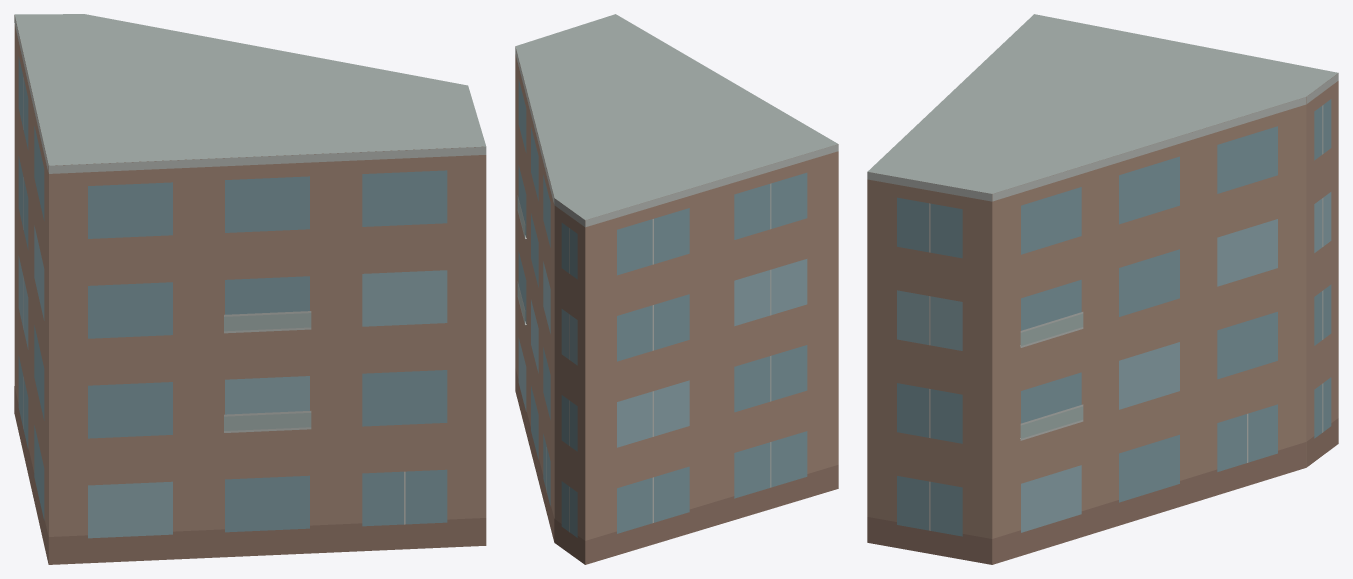
The model's file is survey-upis-32773540.glb.
3 renders of one model, left to right at view 1: azimuth 30°, elevation 25°; view 2: azimuth 150°, elevation 25°; view 3: azimuth 270°, elevation 25°, orthographic. The views are drawn at different scales.
Parts seen in each view (by area): view 1: survey-upis-32773540.tmp; view 2: survey-upis-32773540.tmp; view 3: survey-upis-32773540.tmp.
Part boxes in pixels (x1,y1,x2,y2): survey-upis-32773540.tmp: (14,14,486,564); survey-upis-32773540.tmp: (515,14,838,564); survey-upis-32773540.tmp: (867,14,1338,564).
Bounding box in the file's own units: 12.29 × 11.8 × 13.59.
